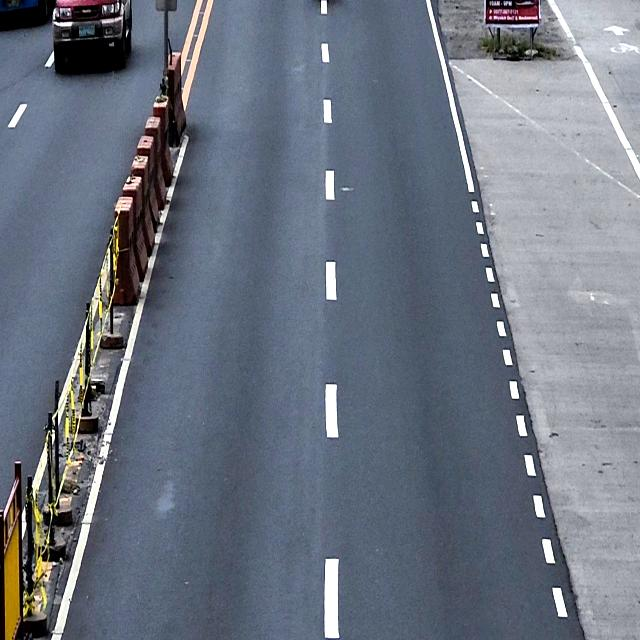Car: (53, 0, 132, 72)
License-Plate: (79, 24, 95, 36)
